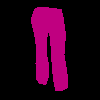pantaloni: (30, 7, 68, 91)
